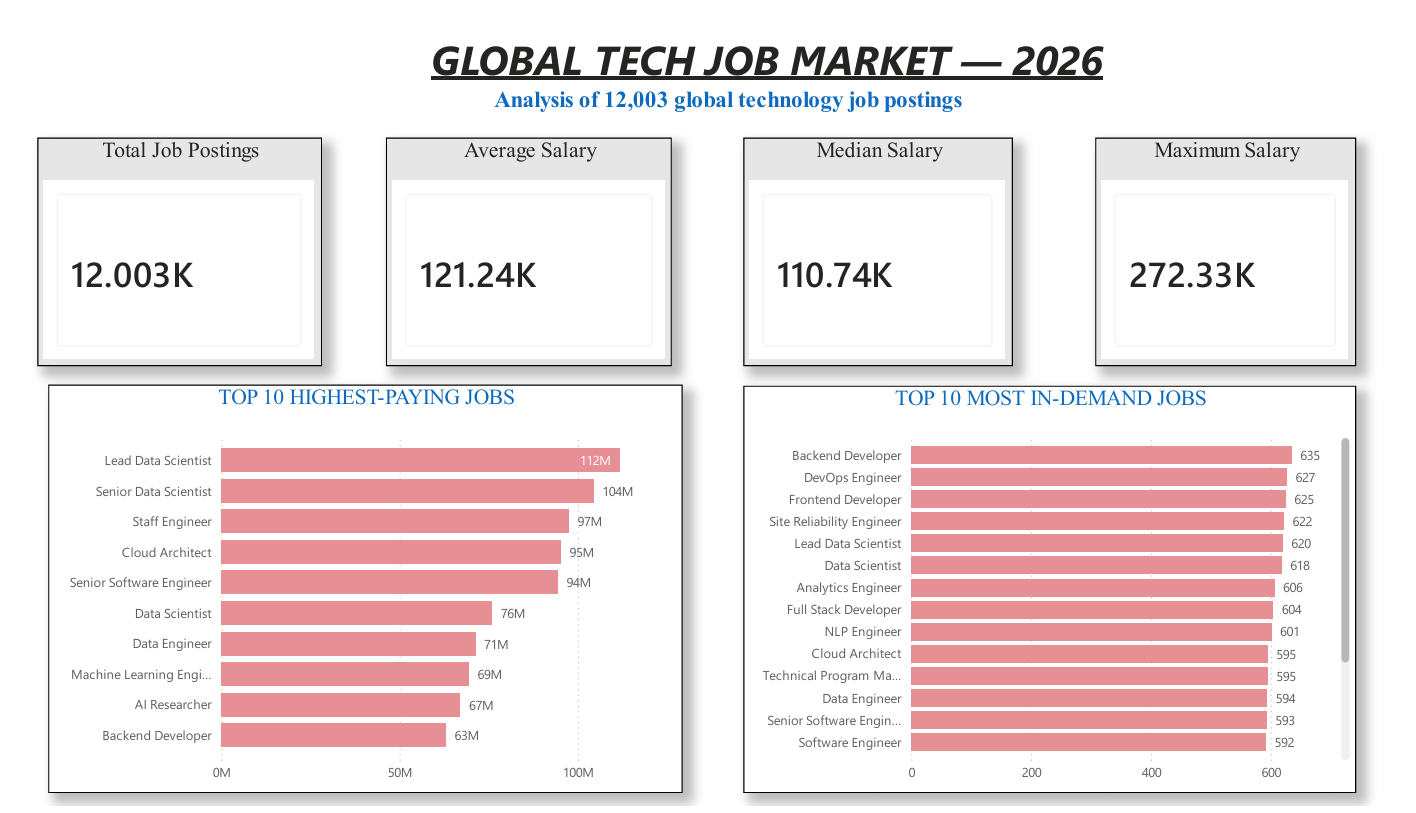

The dashboard page shown, as its layout file describes it:
{"tool":"powerbi","page":{"name":"GLOBAL TECH JOB MARKET","canvas":[1280,720],"ordinal":0},"visuals":[{"type":"cardVisual","title":"Total Job Postings","fields":{"Data":["CountNonNull(Global_Tech_Job_Market_2026.job_id)"]},"box":[16.5,102.9,262.1,211.3],"z":0},{"type":"cardVisual","title":"Average Salary","fields":{"Data":["Avg(Global_Tech_Job_Market_2026.average_salary)"]},"box":[337.6,102.9,264.8,211.3],"z":1000},{"type":"cardVisual","title":"Median Salary","fields":{"Data":["Global_Tech_Job_Market_2026.Median Salary"]},"box":[668.3,102.9,248.4,211.3],"z":2000},{"type":"cardVisual","title":"Maximum Salary","fields":{"Data":["Global_Tech_Job_Market_2026.Maximum Salary"]},"box":[993.5,102.9,240.1,211.3],"z":3000},{"type":"clusteredBarChart","title":"TOP 10 HIGHEST-PAYING JOBS","fields":{"Category":["Global_Tech_Job_Market_2026.job_title"],"Y":["Sum(Global_Tech_Job_Market_2026.average_salary)"]},"box":[26.1,330.7,585.9,377.4],"z":4000},{"type":"clusteredBarChart","title":"TOP 10 MOST IN-DEMAND JOBS","fields":{"Category":["Global_Tech_Job_Market_2026.job_title"],"Y":["CountNonNull(Global_Tech_Job_Market_2026.job_id)"]},"box":[668.3,332.1,565.4,376],"z":5000},{"type":"textbox","box":[100.2,0,1180.1,72.7],"z":6000},{"type":"textbox","box":[100.2,50.8,1107.4,38.4],"z":7000}]}

Visuals, with their boxes in screenshot pixels (x1, y1, x2, y2), scaled from the page's 1280x720 canvas onto the 1416x813 screenshot:
"Total Job Postings" cardVisual: {"left": 18, "top": 116, "right": 308, "bottom": 355}
"Average Salary" cardVisual: {"left": 373, "top": 116, "right": 666, "bottom": 355}
"Median Salary" cardVisual: {"left": 739, "top": 116, "right": 1014, "bottom": 355}
"Maximum Salary" cardVisual: {"left": 1099, "top": 116, "right": 1365, "bottom": 355}
"TOP 10 HIGHEST-PAYING JOBS" clusteredBarChart: {"left": 29, "top": 373, "right": 677, "bottom": 800}
"TOP 10 MOST IN-DEMAND JOBS" clusteredBarChart: {"left": 739, "top": 375, "right": 1365, "bottom": 800}
textbox: {"left": 111, "top": 0, "right": 1415, "bottom": 82}
textbox: {"left": 111, "top": 57, "right": 1336, "bottom": 101}
